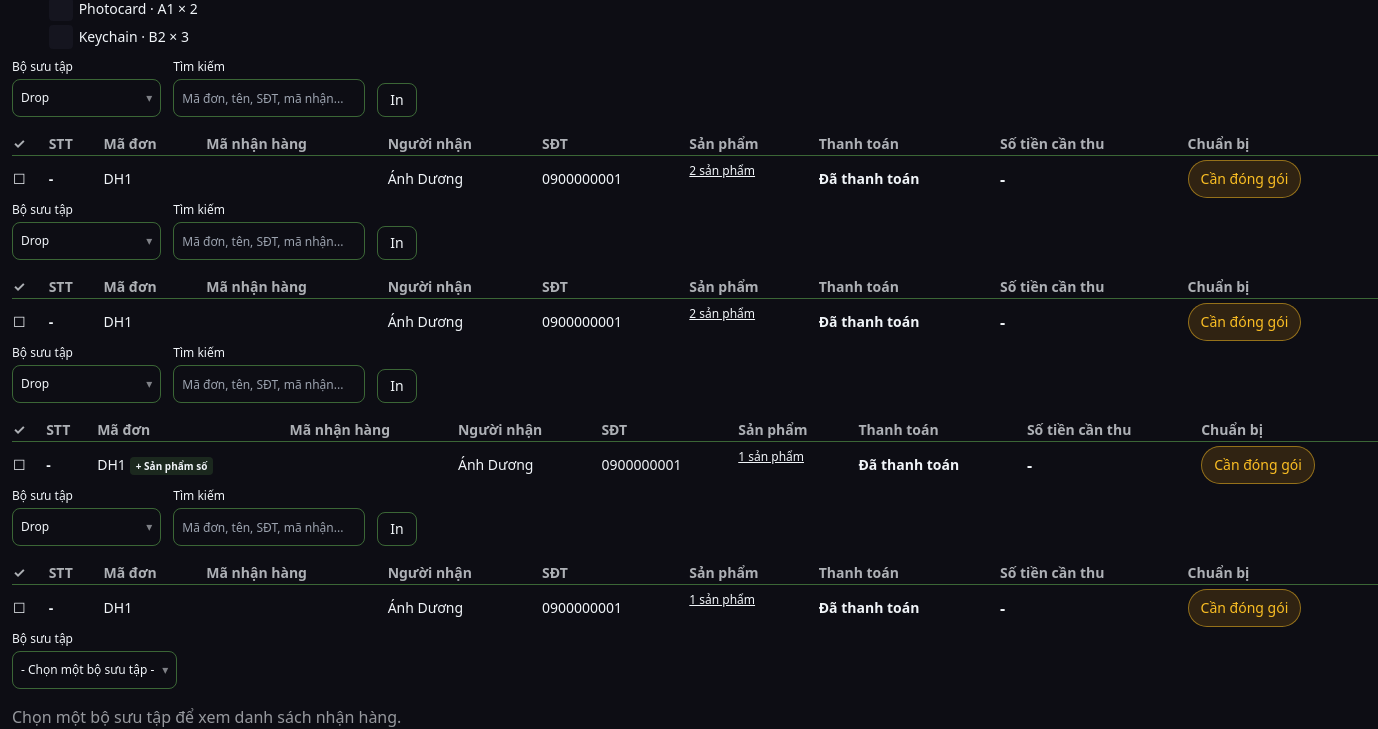
Test: ShippingRoster › shows a prepared pill defaulting to 'Cần đóng gói', toggling it via adminSetOrderPrepared
The width and height of the screenshot is (1378, 729).
(page scrolled)
Click the button with aria-label "- Chọn một bộ sưu tập -": {"x": 95, "y": 670} left=12, top=651, right=177, bottom=689
(page scrolled)
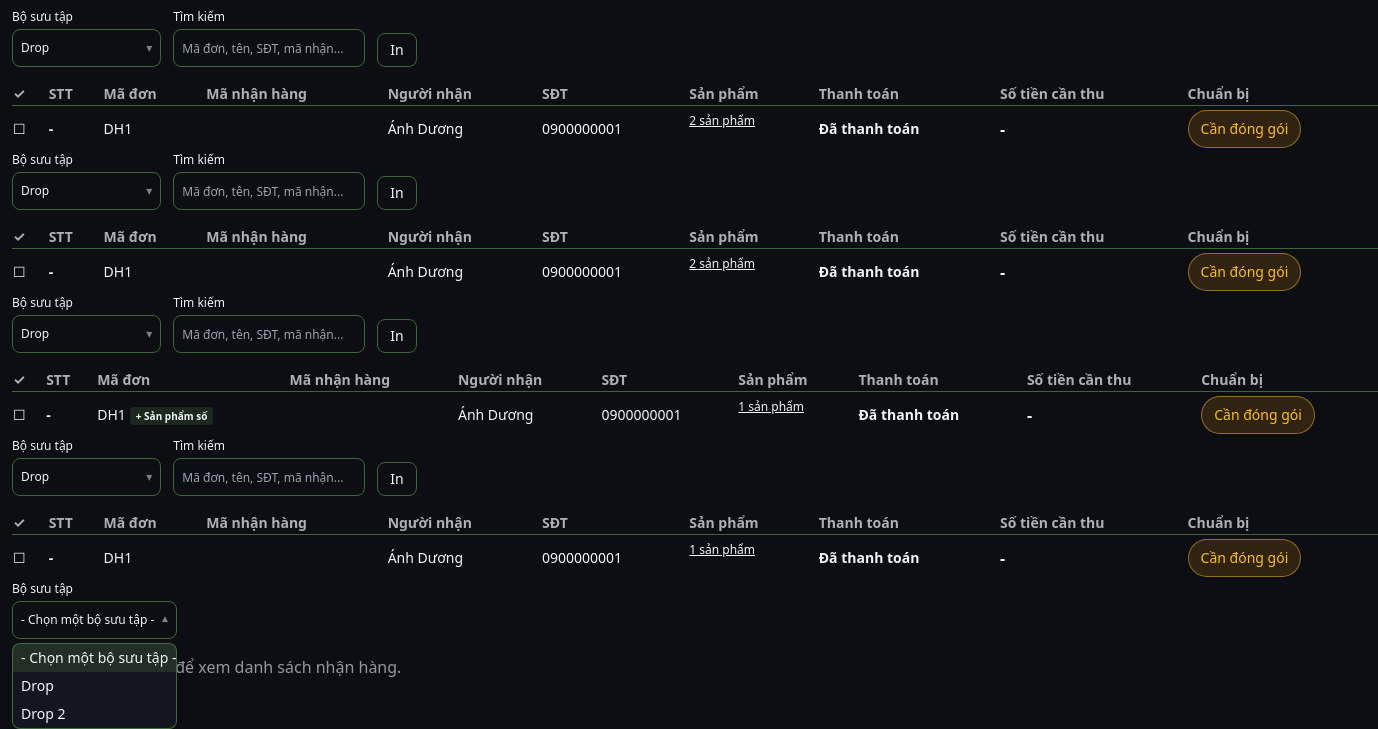
Click the button "Drop": {"x": 95, "y": 686} left=13, top=672, right=176, bottom=700
(page scrolled)
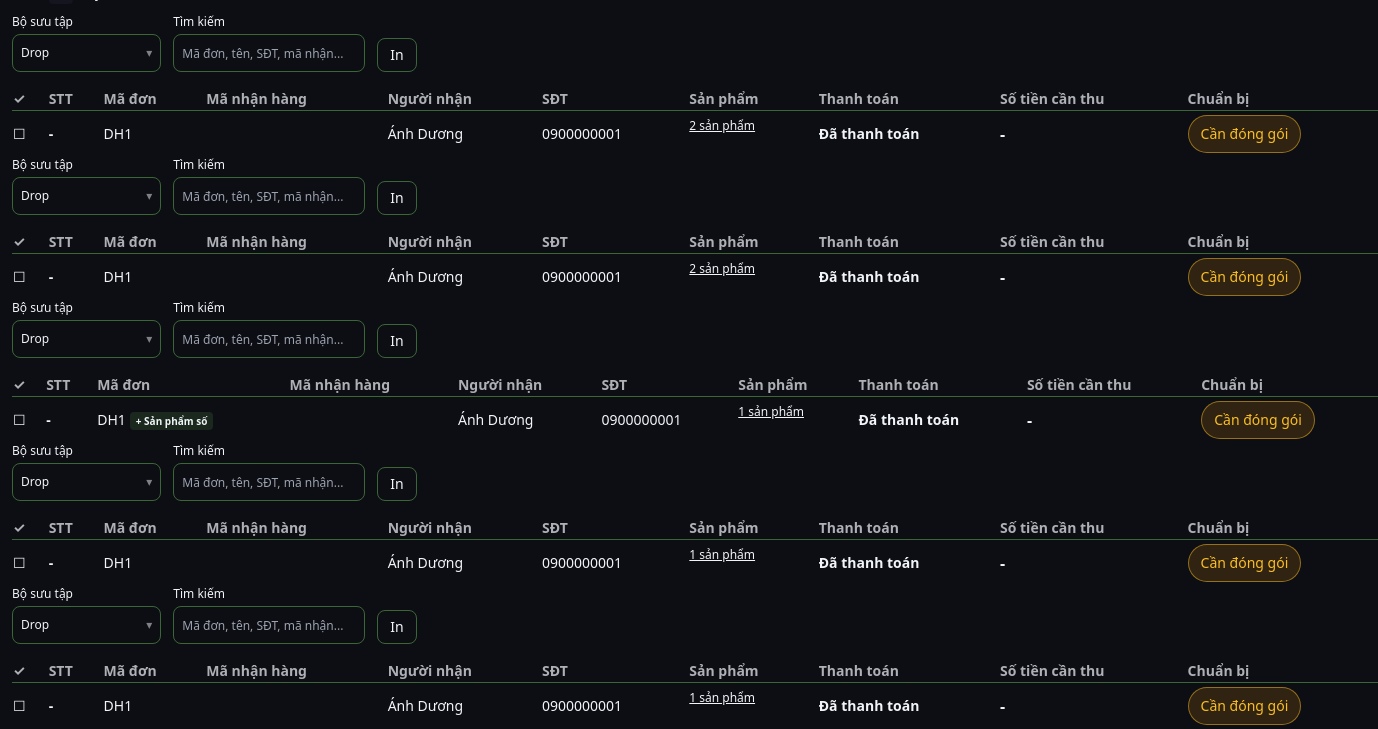
Expected: the 5th button with test id "prepared-1" reads "Cần đóng gói"
Click the 5th button with test id "prepared-1": {"x": 1244, "y": 706} left=1188, top=687, right=1301, bottom=725
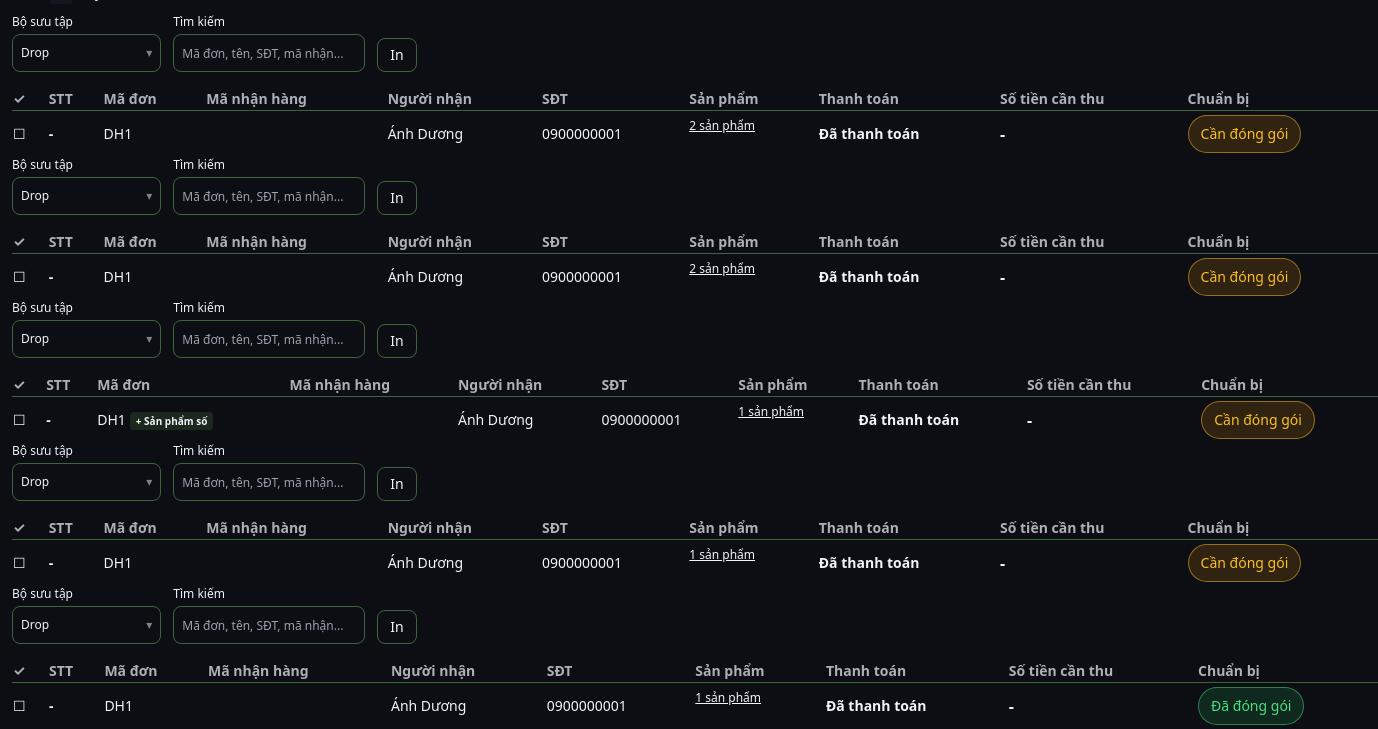
Expected: the button with test id "prepared-1" reads "Đã đóng gói", left=1198, top=687, right=1304, bottom=725
